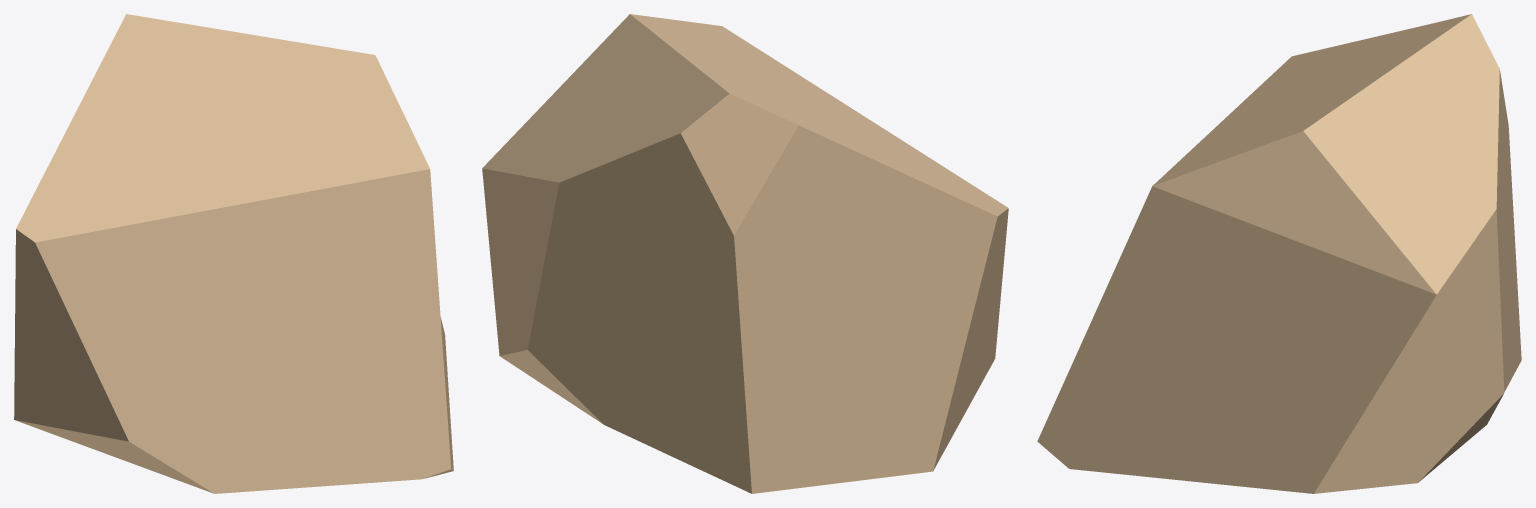
Rendered from stone-small.glb.
3 views of the same model, side by side, from view 1: azimuth 30°, elevation 25°; view 2: azimuth 150°, elevation 25°; view 3: azimuth 270°, elevation 25° (orthographic). The views are drawn at different scales.
Parts seen in each view (by area): view 1: stone-small; view 2: stone-small; view 3: stone-small.
Part boxes in pixels (bbox=[...]): stone-small: bbox=[14, 14, 453, 493]; stone-small: bbox=[482, 14, 1008, 493]; stone-small: bbox=[1037, 14, 1521, 493].
Bounding box in the file's own units: 0.6359 × 0.5069 × 0.5837.
Materials: 1 (1 with a texture image).
